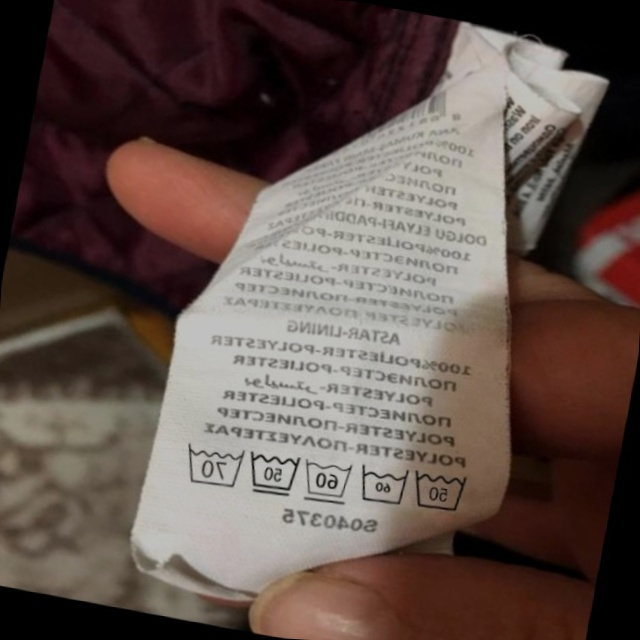50C: (404, 459, 476, 521), (240, 444, 305, 503)
60C: (294, 451, 356, 509), (351, 457, 413, 513)
70C: (174, 437, 247, 493)
